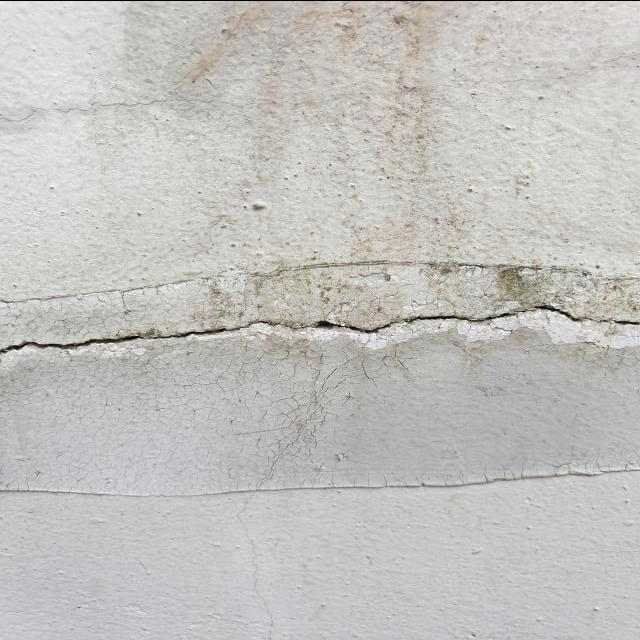SurfaceCrack: (1, 224, 640, 381)
